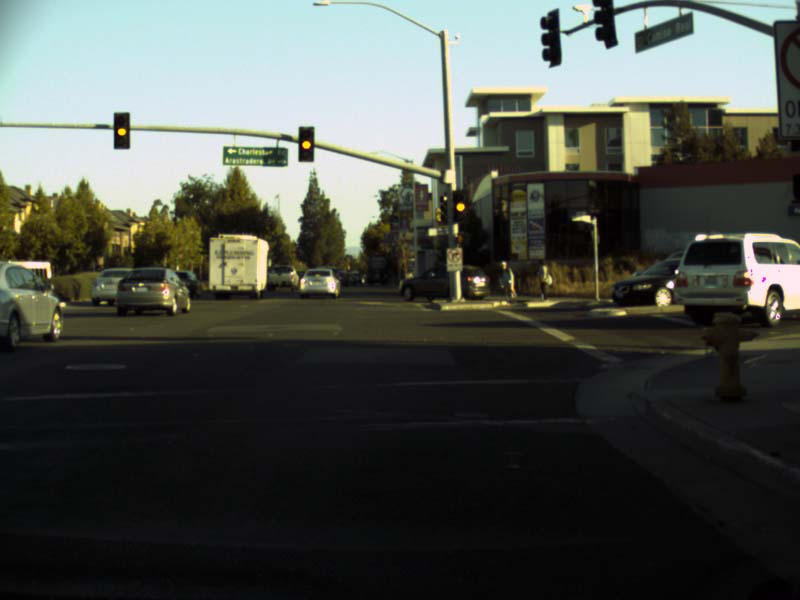Yellow: (113, 113, 129, 149), (298, 125, 313, 162), (452, 190, 469, 222)
